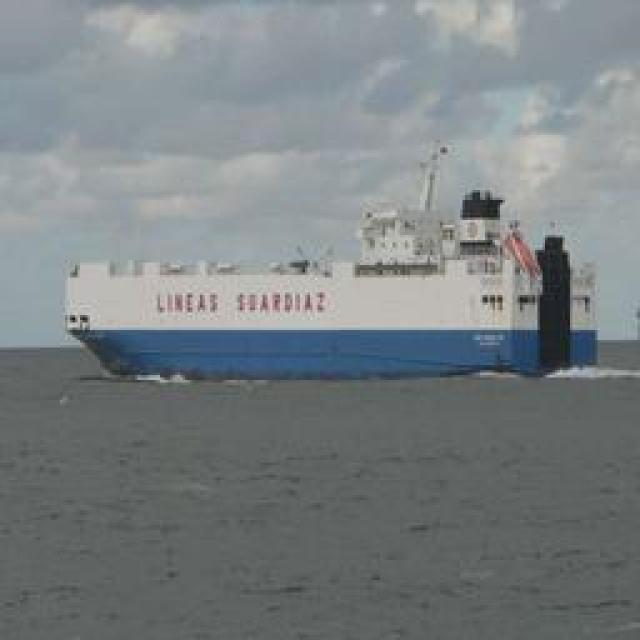CIV_Ship: (71, 126, 599, 379)
